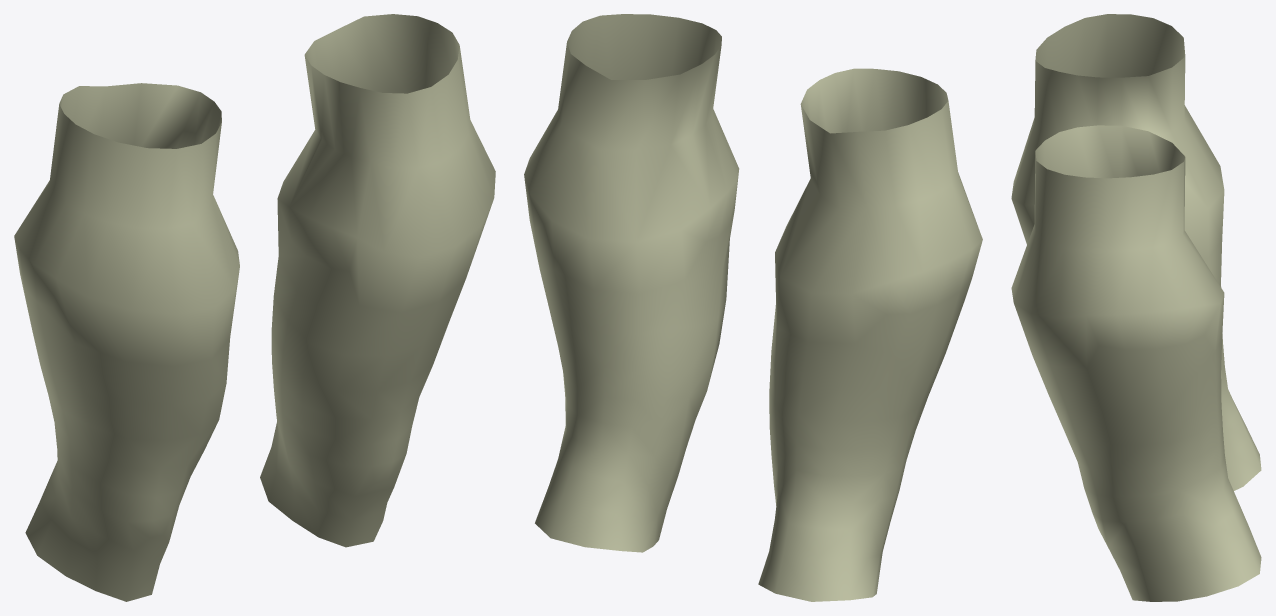
File: Legs.fbx
3 views of the same model, side by side, from view 1: azimuth 30°, elevation 25°; view 2: azimuth 150°, elevation 25°; view 3: azimuth 270°, elevation 25° (orthographic). The views are drawn at different scales.
Parts seen in each view (by area): view 1: Body.001; view 2: Body.001; view 3: Body.001.
Boxes of the visible parts, bbox=[...] form: Body.001: bbox=[14, 14, 495, 601]; Body.001: bbox=[524, 14, 982, 601]; Body.001: bbox=[1011, 14, 1261, 601].
Size of the model in its own units: 42.95 by 45.92 by 23.09.
